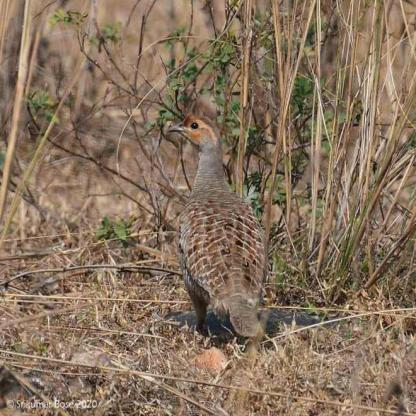Burung: (167, 115, 263, 336)
